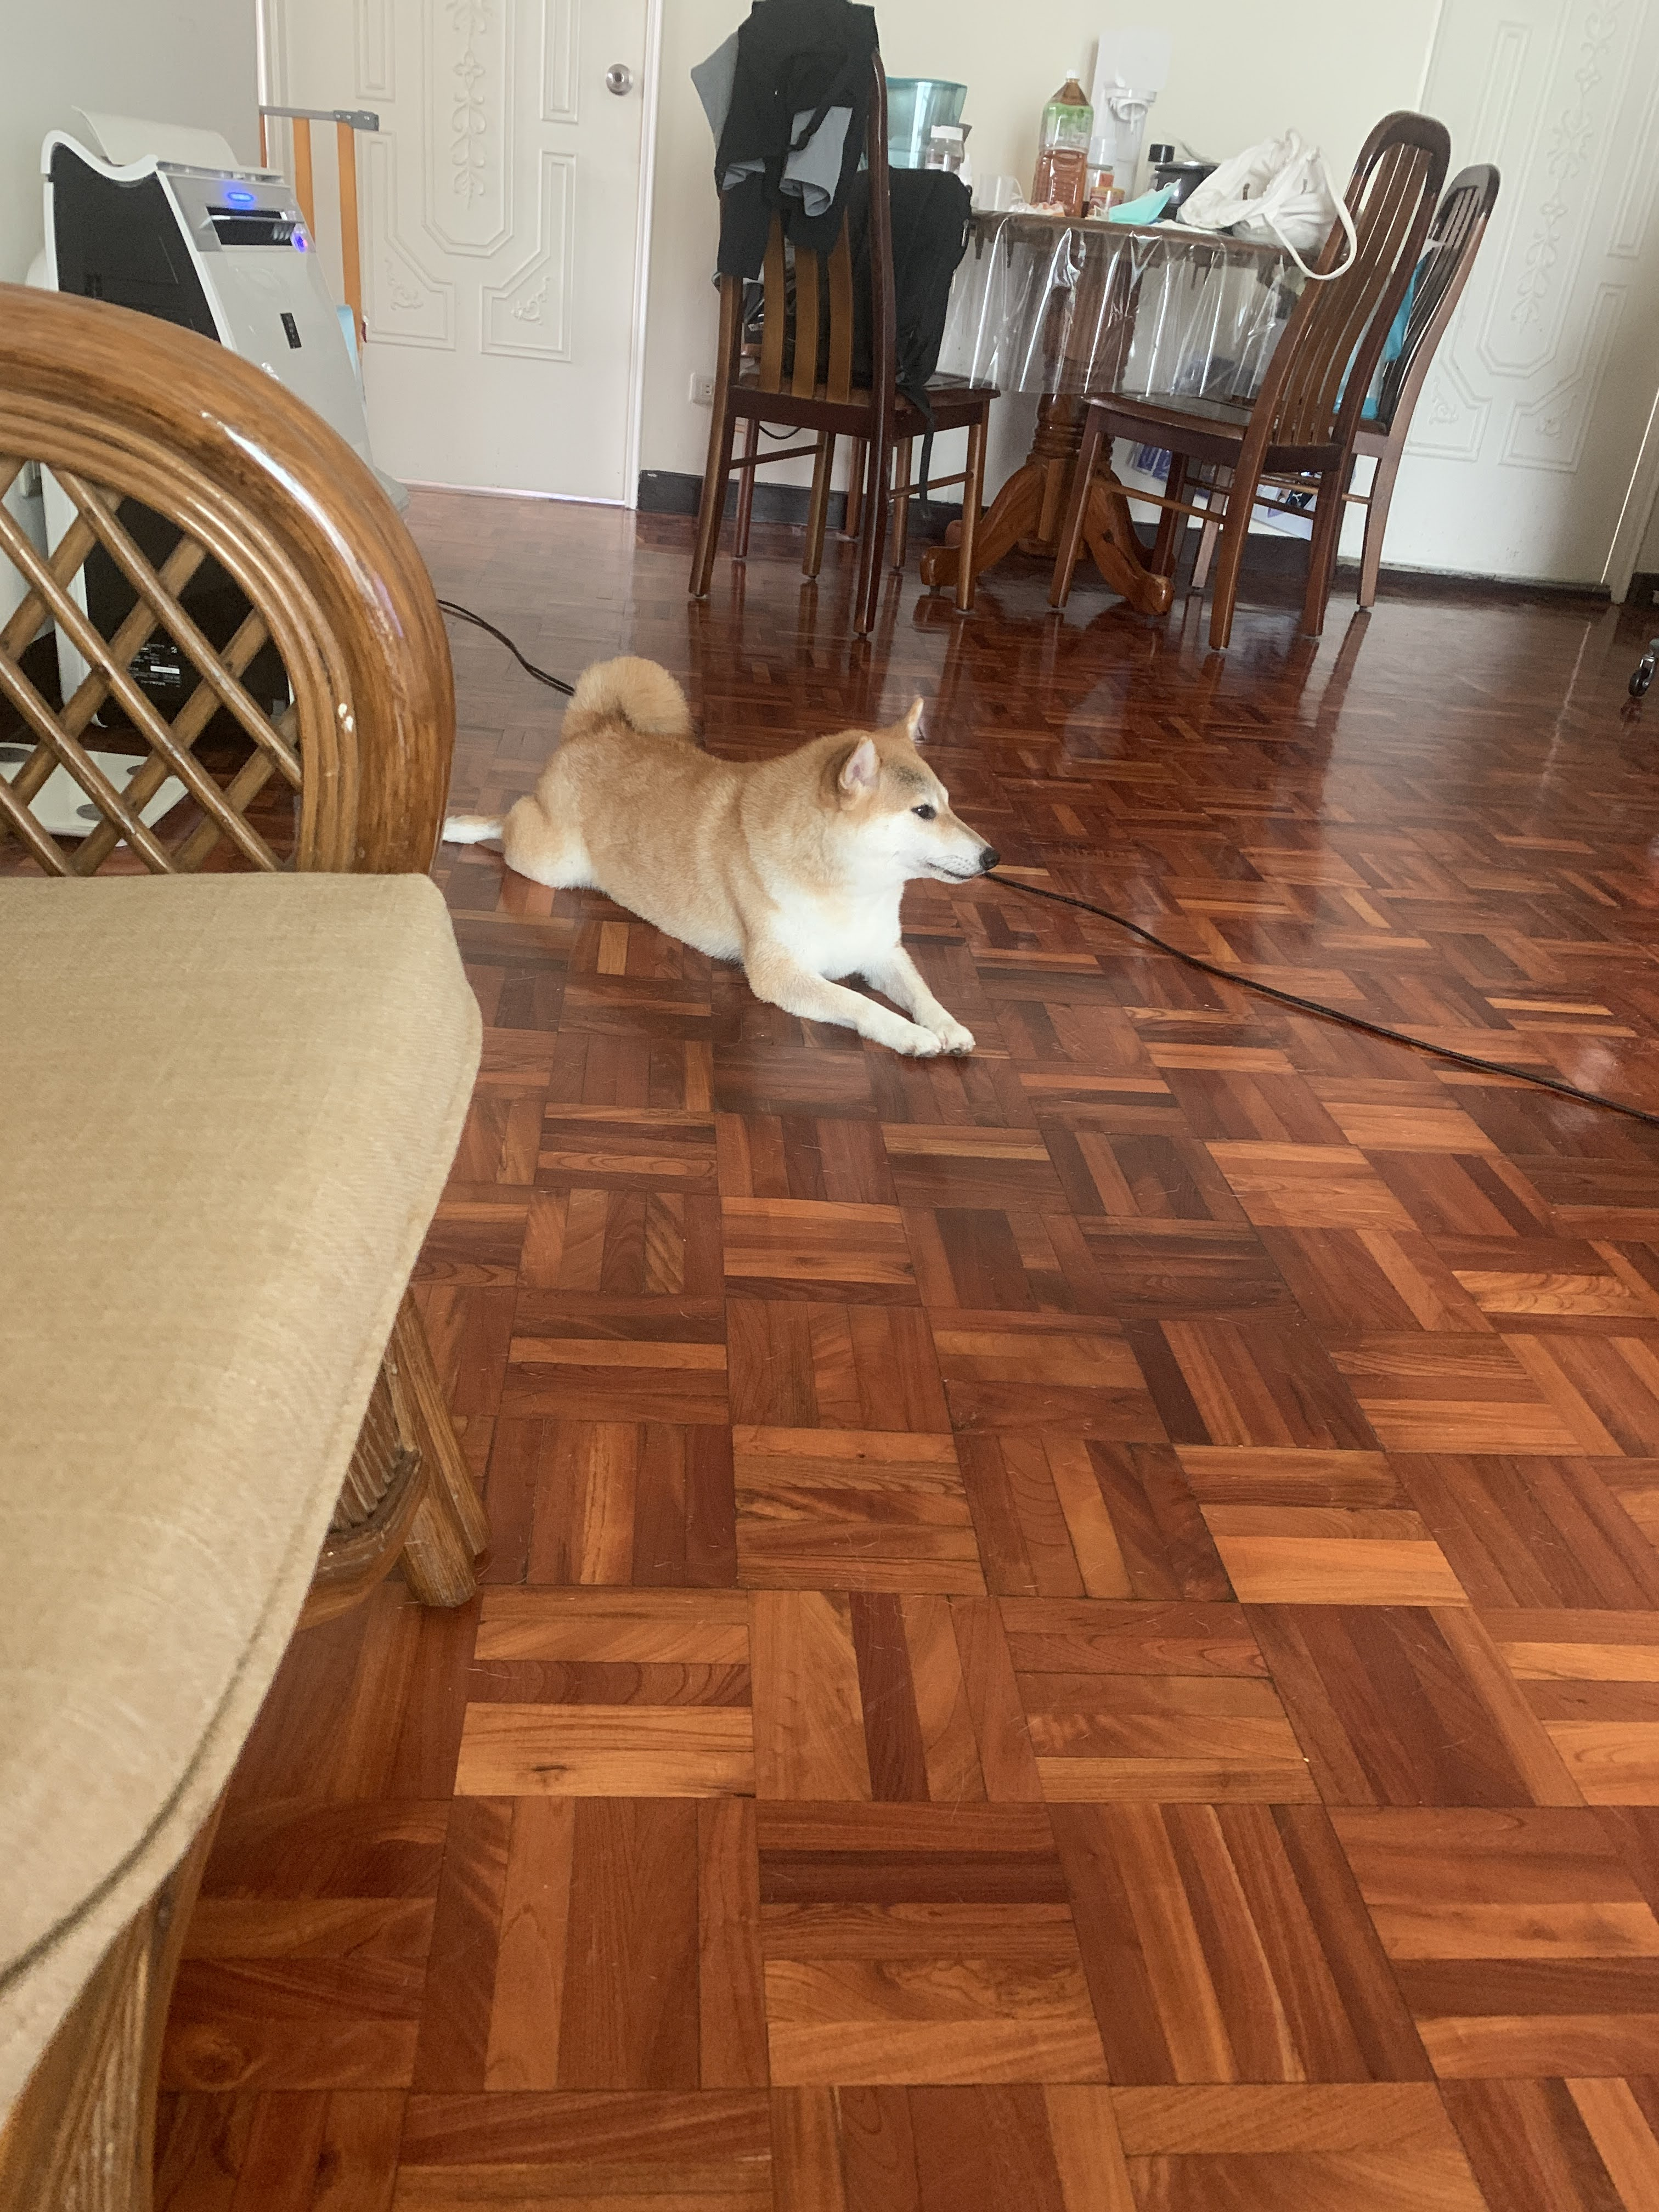Get down: (464, 615, 997, 1057)
